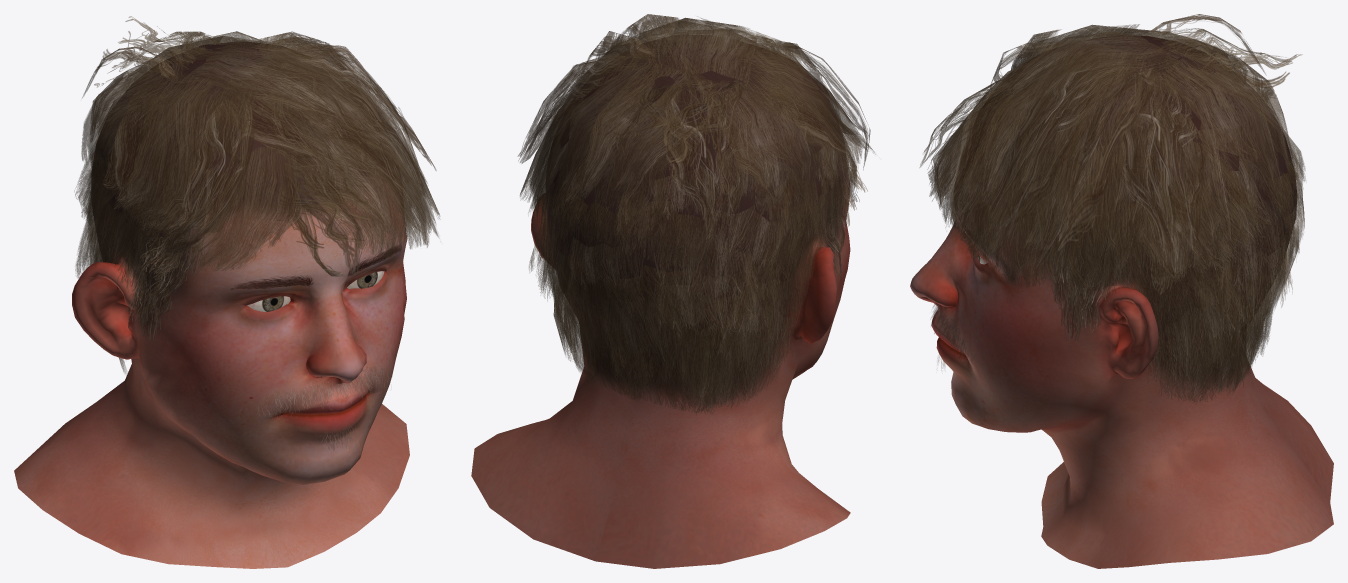
Rendered from maxime.glb.
3 views of the same model, side by side, from view 1: azimuth 30°, elevation 25°; view 2: azimuth 150°, elevation 25°; view 3: azimuth 270°, elevation 25° (orthographic). The views are drawn at different scales.
Visible parts, largest first — view 1: Cube.002, Plane.030, Sphere; view 2: Cube.002, Plane.030; view 3: Cube.002, Plane.030.
Part boxes in pixels (x1,y1,x2,y2): Cube.002: (14, 42, 409, 568); Plane.030: (74, 16, 440, 450); Sphere: (247, 271, 384, 311); Cube.002: (471, 35, 850, 568); Plane.030: (517, 14, 875, 414); Cube.002: (910, 35, 1333, 568); Plane.030: (919, 14, 1305, 403).
Bounding box in the file's own units: 0.4982 × 0.6402 × 0.506.
Materials: 3 (3 with a texture image).
